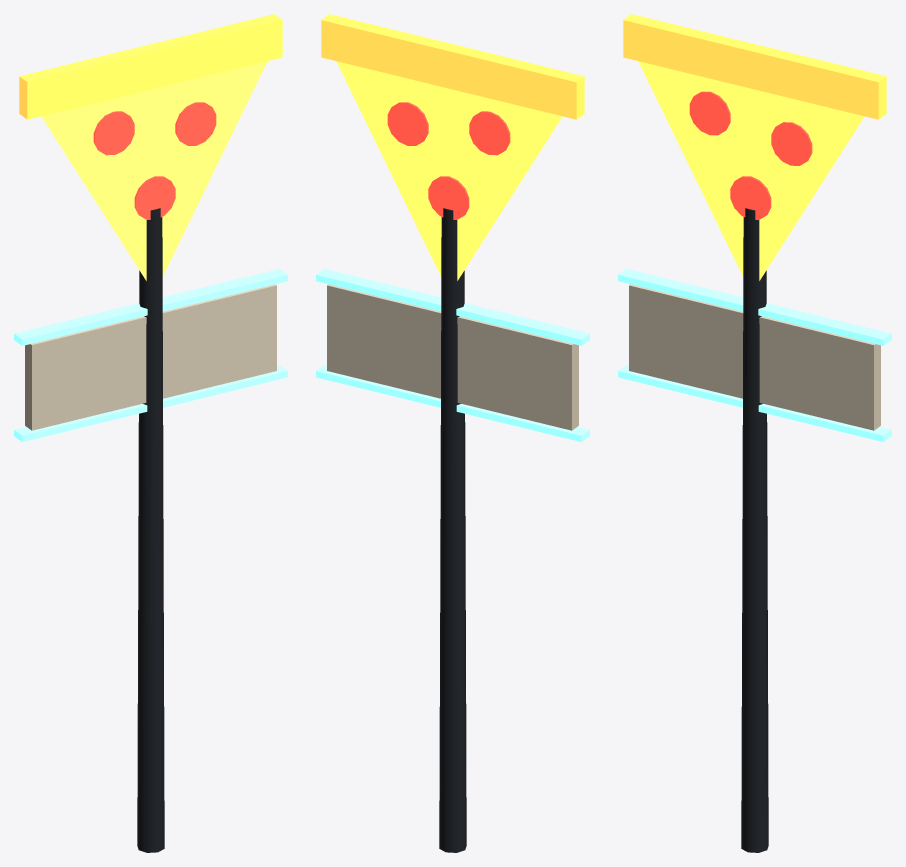
File: pizza-sign.glb
3 renders of one model, left to right at view 1: azimuth 30°, elevation 25°; view 2: azimuth 150°, elevation 25°; view 3: azimuth 330°, elevation 25°, orthographic.
Visible parts, largest first — view 1: sign board, sign cheese, sign pole, sign crust, sign neon, sign pepperoni; view 2: sign board, sign cheese, sign pole, sign crust, sign neon, sign pepperoni; view 3: sign board, sign cheese, sign pole, sign crust, sign neon, sign pepperoni.
Boxes of the visible parts, x1,y1,x2,y2 form: sign board: [25, 284, 276, 430]; sign cheese: [41, 61, 267, 280]; sign pole: [137, 208, 164, 852]; sign crust: [19, 14, 282, 119]; sign neon: [14, 269, 287, 441]; sign pepperoni: [93, 102, 216, 219]; sign board: [327, 284, 578, 430]; sign cheese: [336, 61, 562, 280]; sign pole: [439, 208, 466, 852]; sign crust: [321, 14, 584, 119]; sign neon: [316, 269, 589, 441]; sign pepperoni: [387, 102, 510, 219]; sign board: [629, 284, 880, 430]; sign cheese: [638, 61, 864, 280]; sign pole: [741, 208, 768, 852]; sign crust: [623, 14, 886, 119]; sign neon: [618, 269, 891, 441]; sign pepperoni: [689, 91, 812, 219].
Bounding box in the file's own units: 2.6 × 7.47 × 0.24.
